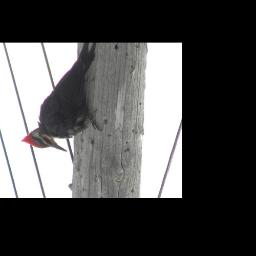Woodpecker: (19, 43, 103, 154)
